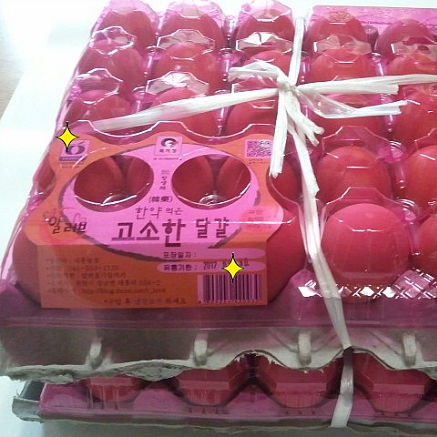egg: (14, 1, 437, 288)
